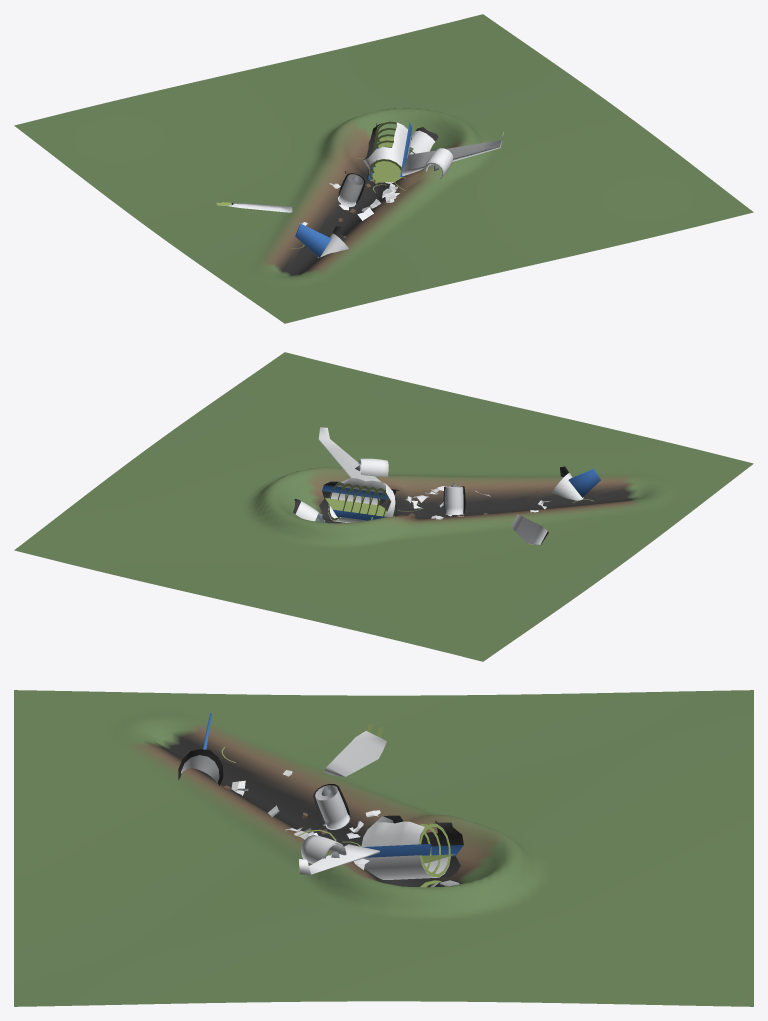
Rendered from crash_site.glb.
3 renders of one model, top to bottom at view 1: azimuth 30°, elevation 25°; view 2: azimuth 150°, elevation 25°; view 3: azimuth 270°, elevation 25°, orthographic. The views are drawn at different scales.
Visible parts, largest first — view 1: Terrain_CrashSite, Wreckage_Fuselage, Wreckage_Wing_Right, Wreckage_Tail, Wreckage_DebrisField, Wreckage_Engine_Severed, Wreckage_Cockpit; view 2: Terrain_CrashSite, Wreckage_Fuselage, Wreckage_Tail, Wreckage_Wing_Right, Wreckage_Wing_Broken_Left, Wreckage_Engine_Severed, Wreckage_DebrisField, Wreckage_Engine_Right; view 3: Terrain_CrashSite, Wreckage_Fuselage, Wreckage_Wing_Broken_Left, Wreckage_Engine_Severed, Wreckage_Tail, Wreckage_DebrisField, Wreckage_Wing_Right, Wreckage_Engine_Right.
Boxes of the visible parts, x1=… form: Terrain_CrashSite: x1=14, y1=14, x2=753, y2=323; Wreckage_Fuselage: x1=363, y1=121, x2=411, y2=183; Wreckage_Wing_Right: x1=401, y1=132, x2=503, y2=175; Wreckage_Tail: x1=295, y1=223, x2=348, y2=257; Wreckage_DebrisField: x1=290, y1=158, x2=405, y2=248; Wreckage_Engine_Severed: x1=338, y1=173, x2=365, y2=206; Wreckage_Cockpit: x1=409, y1=127, x2=438, y2=154; Terrain_CrashSite: x1=14, y1=352, x2=753, y2=661; Wreckage_Fuselage: x1=319, y1=478, x2=399, y2=522; Wreckage_Tail: x1=552, y1=466, x2=600, y2=500; Wreckage_Wing_Right: x1=318, y1=427, x2=380, y2=481; Wreckage_Wing_Broken_Left: x1=511, y1=514, x2=553, y2=545; Wreckage_Engine_Severed: x1=443, y1=482, x2=465, y2=514; Wreckage_DebrisField: x1=337, y1=482, x2=593, y2=522; Wreckage_Engine_Right: x1=355, y1=458, x2=388, y2=477; Terrain_CrashSite: x1=14, y1=690, x2=753, y2=1006; Wreckage_Fuselage: x1=361, y1=815, x2=463, y2=879; Wreckage_Wing_Broken_Left: x1=323, y1=723, x2=386, y2=776; Wreckage_Engine_Severed: x1=313, y1=784, x2=350, y2=829; Wreckage_Tail: x1=178, y1=713, x2=223, y2=785; Wreckage_DebrisField: x1=221, y1=747, x2=380, y2=869; Wreckage_Wing_Right: x1=299, y1=844, x2=379, y2=874; Wreckage_Engine_Right: x1=301, y1=835, x2=346, y2=863.
Size of the model in its own units: 55 by 8.15 by 55.
